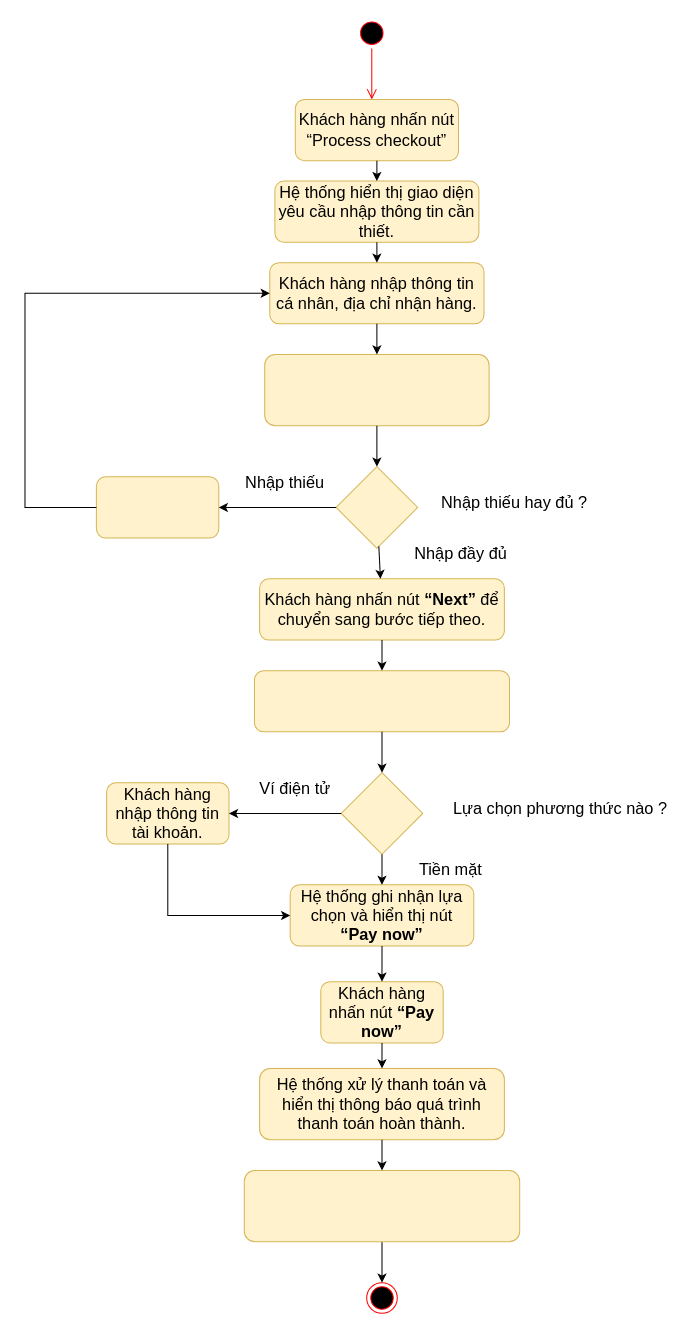
This 696x1331 diagram has some shape labels left out. The shapes that lost their labels are listed below. From the top down, each one's centre as x and y in pixels, then its label:
At [376,389]: "Hệ thống kiểm tra các thông tin cần thiết đã được nhập hay chưa.".
At [157,507]: "Hệ thống báo lỗi, yêu cầu nhập lại".
At [381,701]: "Khách hàng lựa chọn phương thức thanh toán mong muốn.".
At [381,1205]: "Hệ thống gửi mail thông báo về đơn hàng cho tài khoản mail được nhập ở Bước 3".
